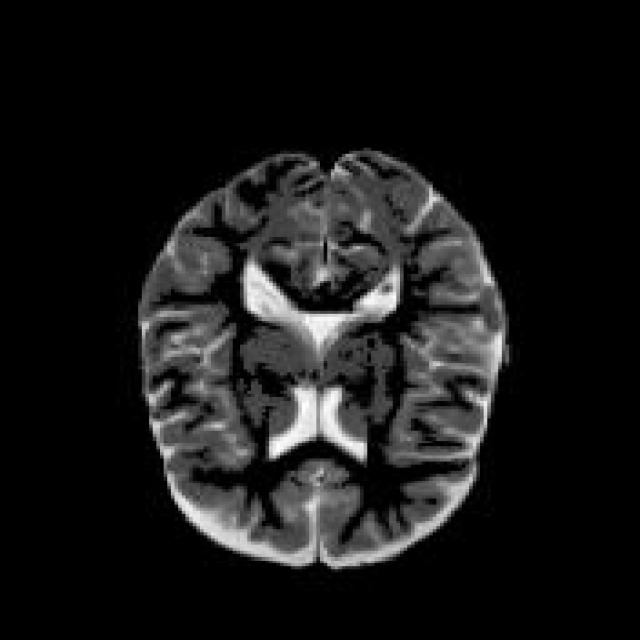CONTROL: (135, 145, 509, 569)
